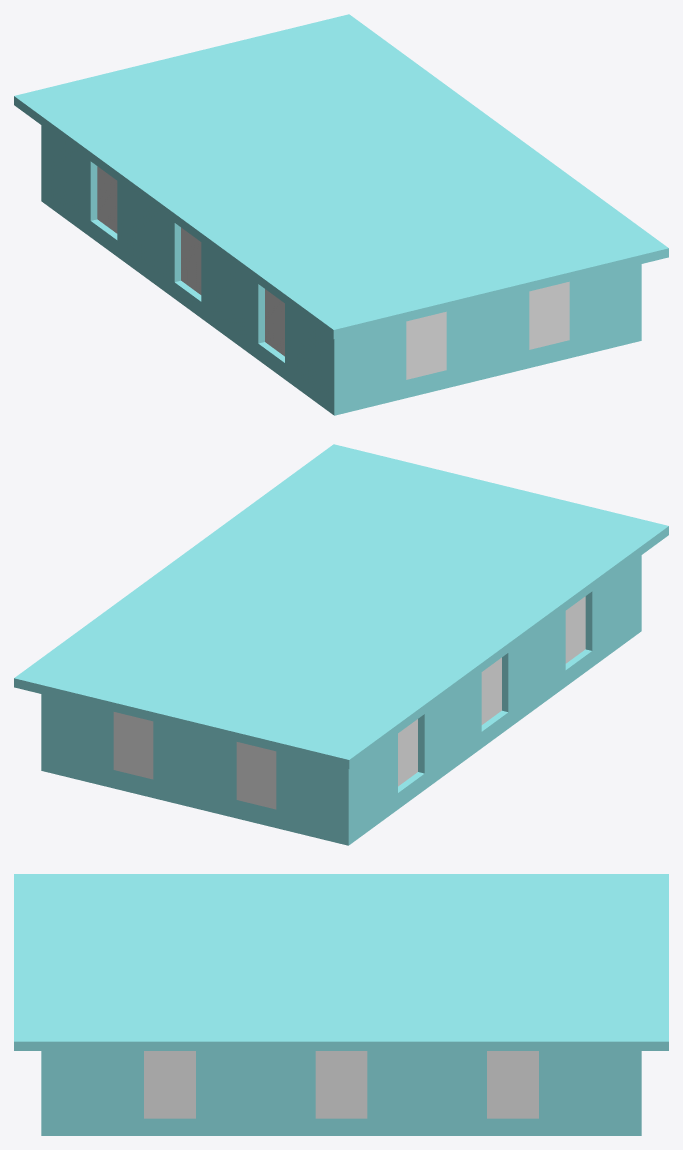
Rendered from SmallOffice.obj.
The picture shows the model from 3 angles, top to bottom: view 1: azimuth 30°, elevation 25°; view 2: azimuth 150°, elevation 25°; view 3: azimuth 270°, elevation 25°; orthographic projection. The views are drawn at different scales.
Visible parts, largest first — view 1: Plane.068; view 2: Plane.068; view 3: Plane.068.
Boxes of the visible parts, x1,y1,x2,y2 form: Plane.068: [14, 14, 668, 415]; Plane.068: [14, 444, 668, 845]; Plane.068: [14, 874, 668, 1135].
Bounding box in the file's own units: 3.32 × 0.9372 × 5.49.
2 materials, 2 textured.
